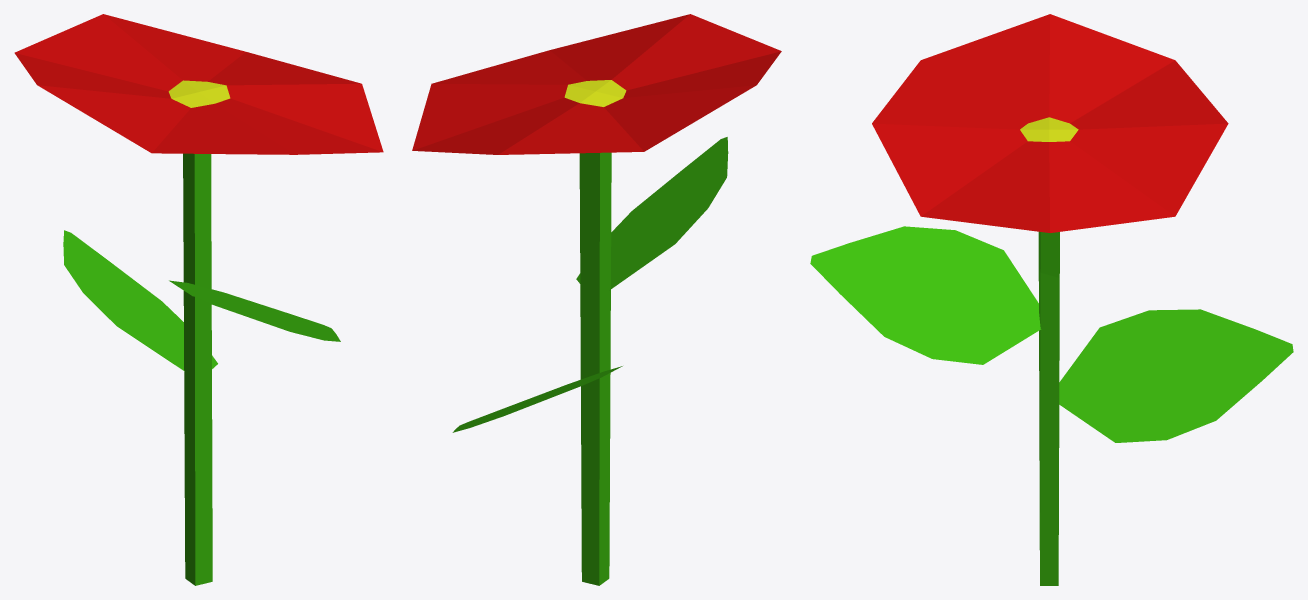
Rendered from LowPolyFlower.fbx.
3 renders of one model, left to right at view 1: azimuth 30°, elevation 25°; view 2: azimuth 150°, elevation 25°; view 3: azimuth 270°, elevation 25°, orthographic. The views are drawn at different scales.
Visible parts, largest first — view 1: Cube; view 2: Cube; view 3: Cube.
Part boxes in pixels (bbox=[...]): Cube: bbox=[14, 14, 383, 585]; Cube: bbox=[412, 14, 781, 585]; Cube: bbox=[810, 14, 1293, 585].
Bounding box in the file's own units: 163 × 256 × 227.
